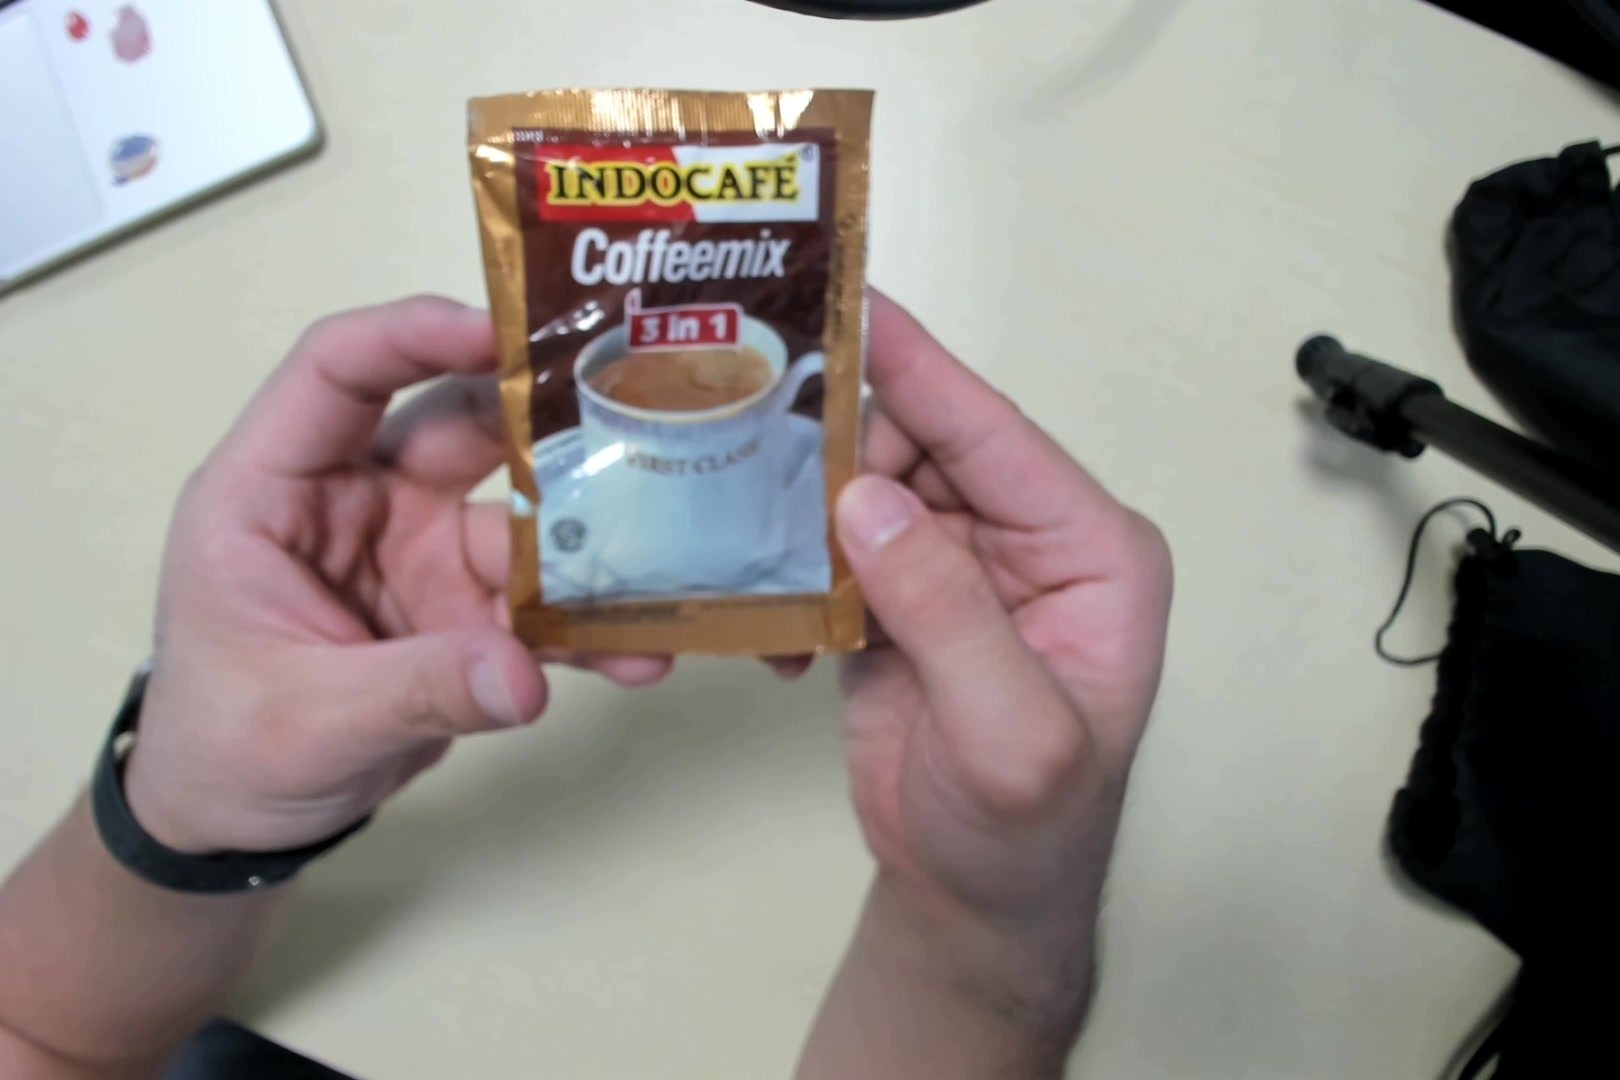Coffee(Powder)_0-99g_NonHalal_NonHealthy: (465, 92, 865, 661)
